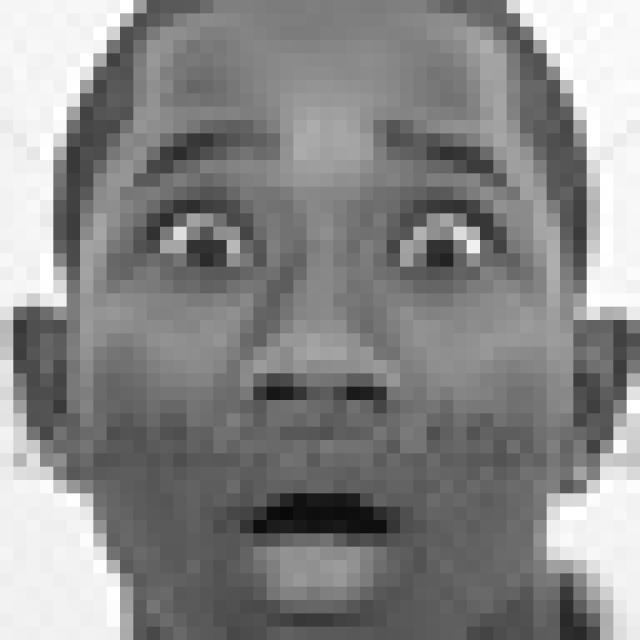surprise: (127, 113, 526, 625)
